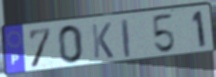0: (57, 24, 86, 65)
1: (191, 9, 208, 50)
5: (150, 12, 177, 55)
7: (28, 27, 53, 70)
I: (120, 17, 133, 60)
K: (90, 21, 115, 60)
